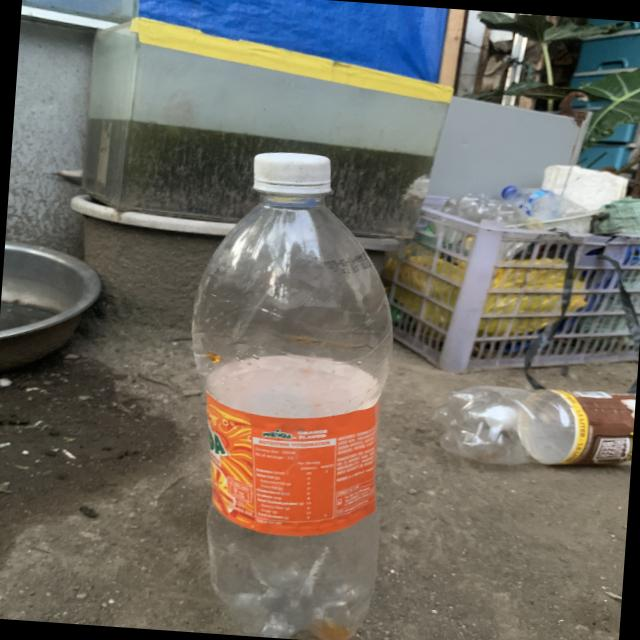Bottle: (192, 152, 392, 640)
